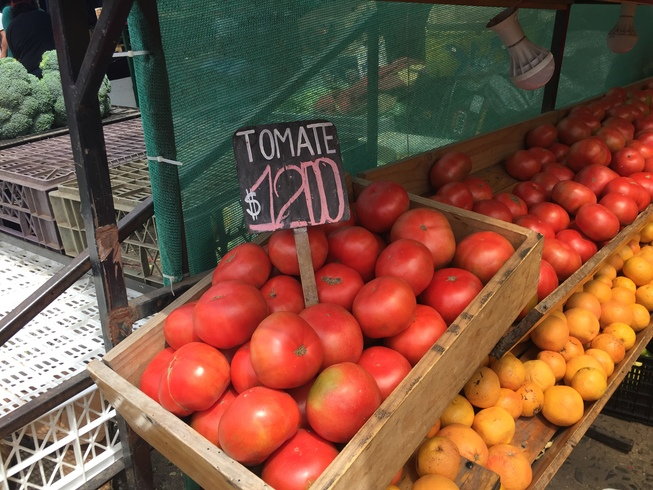precio: (231, 116, 359, 235)
